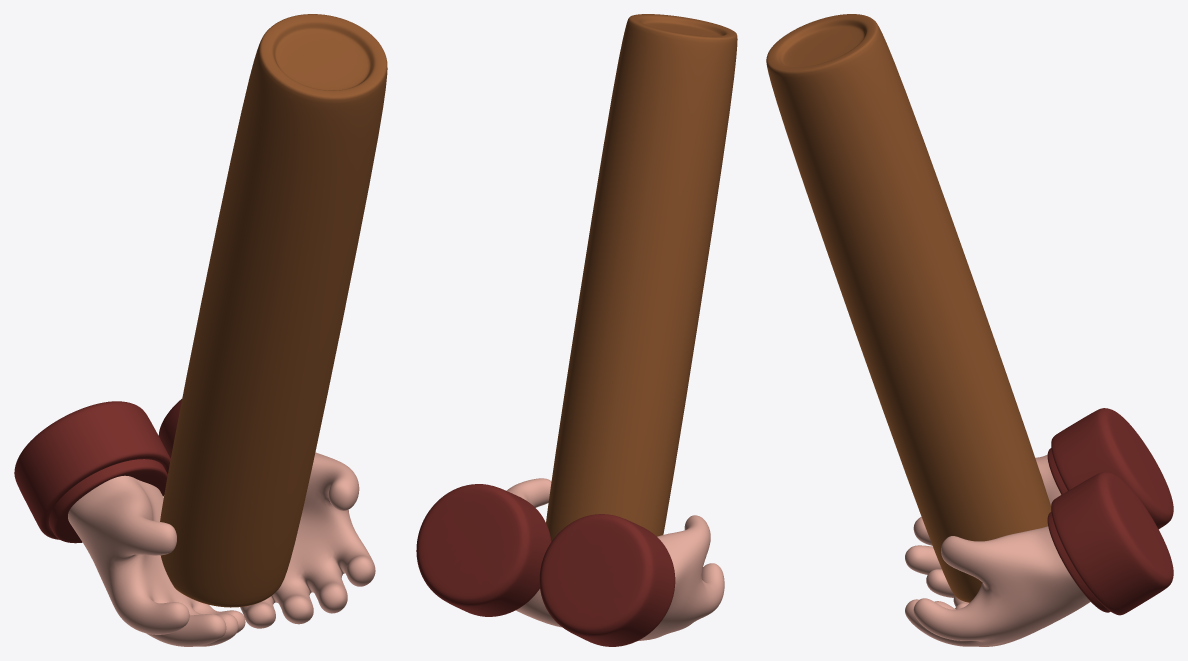
Rendered from caber-toss-3d-icon-353626071206.glb.
3 views of the same model, side by side, from view 1: azimuth 30°, elevation 25°; view 2: azimuth 150°, elevation 25°; view 3: azimuth 270°, elevation 25° (orthographic). The views are drawn at different scales.
Parts seen in each view (by area): view 1: Wood, Hand, Sleeve; view 2: Wood, Sleeve, Hand; view 3: Wood, Sleeve, Hand.
Boxes of the visible parts, x1,y1,x2,y2 form: Wood: (160, 14, 387, 607); Hand: (68, 452, 375, 646); Sleeve: (14, 399, 181, 543); Wood: (546, 14, 737, 541); Sleeve: (416, 484, 675, 646); Hand: (506, 478, 724, 640); Wood: (766, 14, 1051, 602); Sleeve: (1047, 408, 1173, 615); Hand: (905, 454, 1090, 646).
Bounding box in the file's own units: 0.8566 × 1.98 × 1.22.
